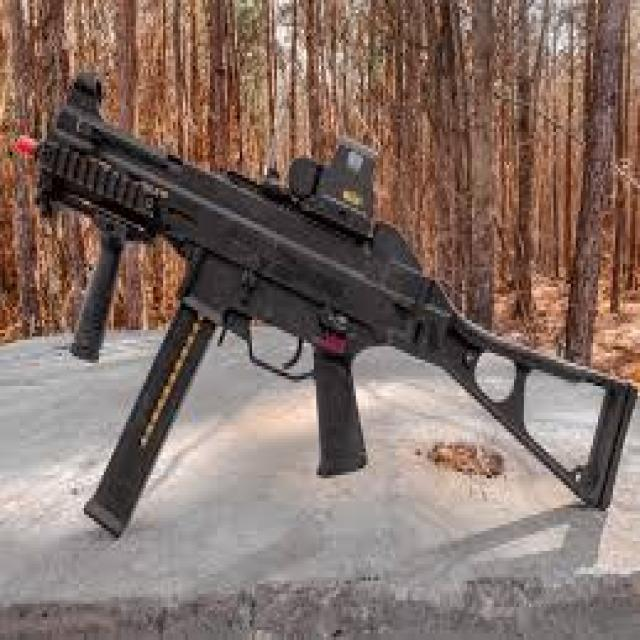Gun: (33, 62, 640, 548)
